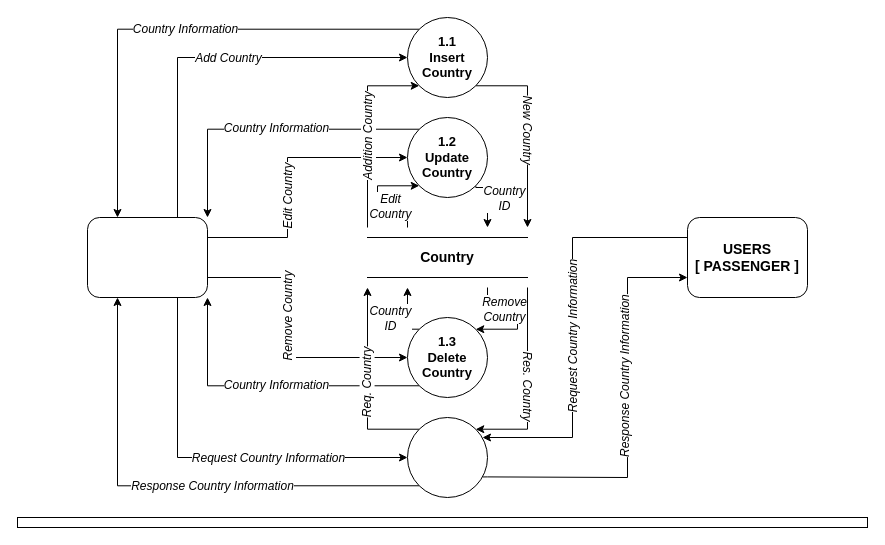
Some shapes in this 885 by 545 pixel diagram are drawn without their labels. Here are the shapes that lost their labels. From the top down, the centre of each, then its label:
At pixel 147 257: "ADMIN [ OWNER ]".
At pixel 447 457: "1.4 View Country".
